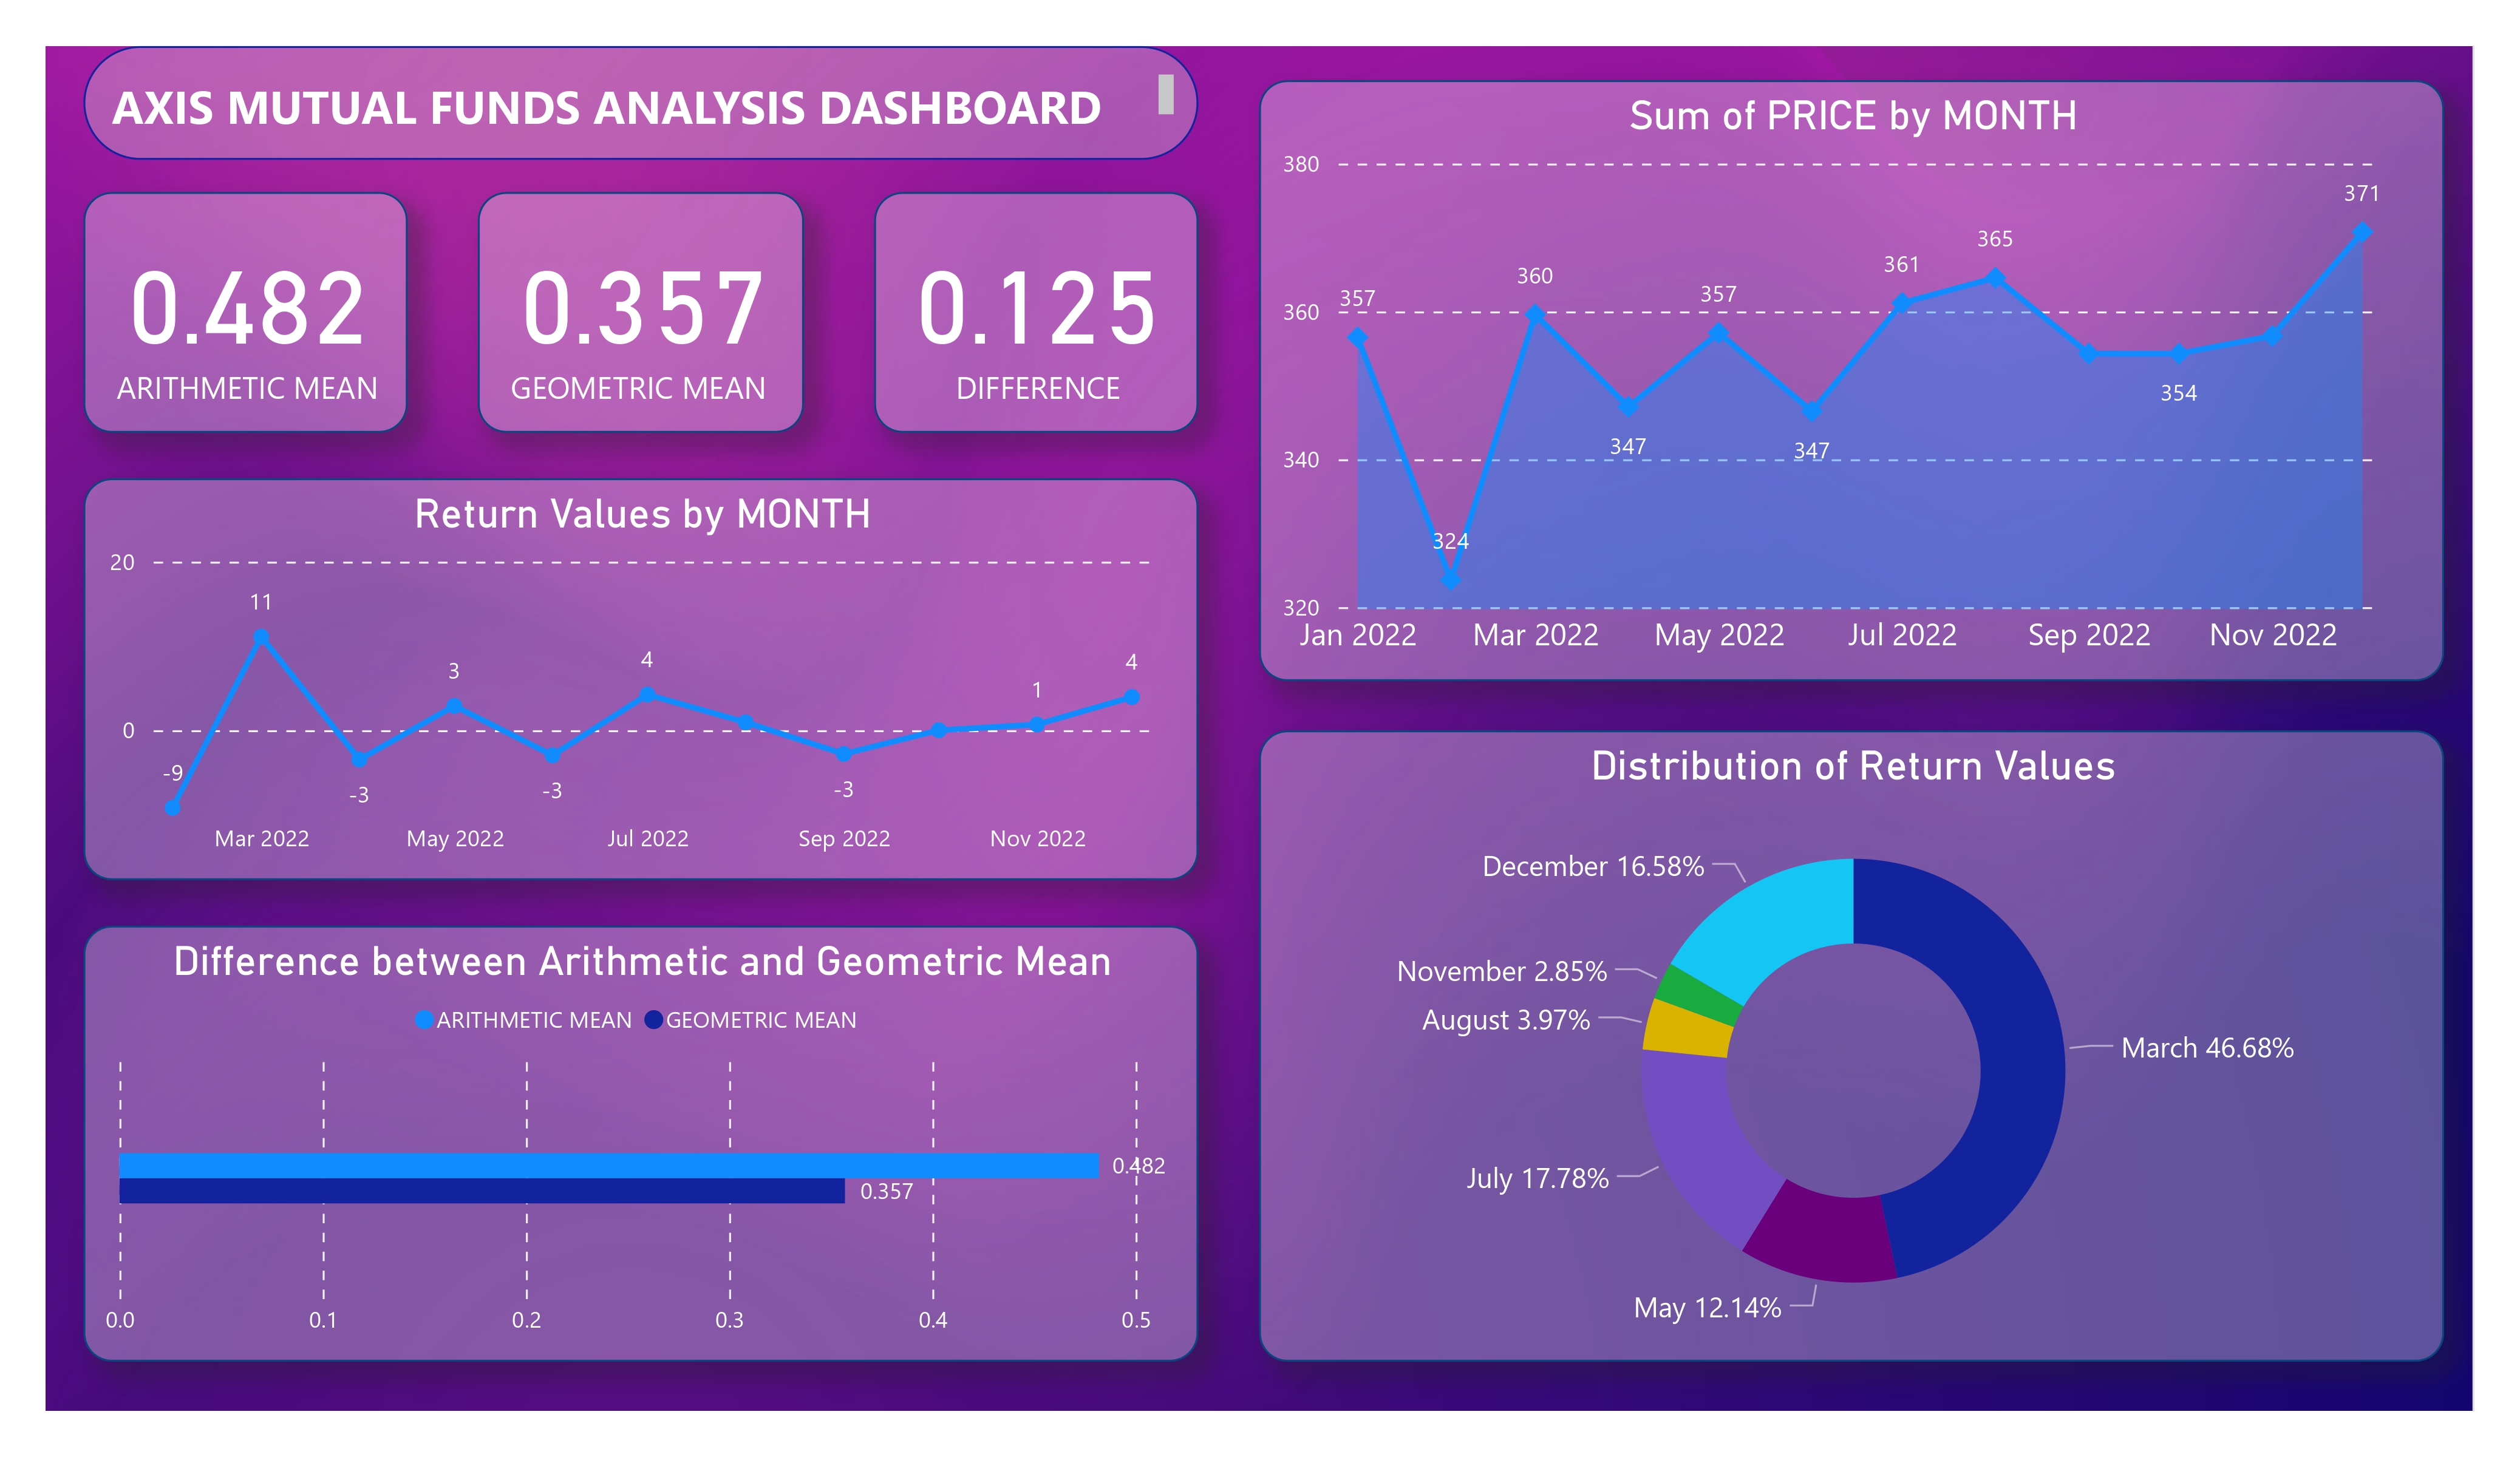

Layout of this report page (visuals, bound fields, positions):
{"tool":"powerbi","page":{"name":"AXIS","canvas":[1280,720],"ordinal":0},"visuals":[{"type":"textbox","box":[19.5,0,589,60.1],"z":0},{"type":"lineChart","title":"Return Values by MONTH","fields":{"Category":["sheet1.MONTH"],"Y":["Sum(sheet1.AXIS)"]},"box":[19.5,228.4,589,211.8],"z":1000},{"type":"areaChart","fields":{"Category":["AXIS.MONTH"],"Y":["Sum(AXIS.PRICE)"]},"box":[640,18,625,317],"z":2000},{"type":"donutChart","title":"Distribution of Return Values","fields":{"Y":["Sum(AXIS.RETURN)"],"Category":["AXIS.MONTH.Variation.Date Hierarchy.Month","AXIS.MONTH.Variation.Date Hierarchy.Day"]},"box":[640,360.6,625,333.5],"z":3000},{"type":"clusteredBarChart","title":"Difference between Arithmetic and Geometric Mean","fields":{"Y":["Sum(axis (2).ARITHMETIC MEAN)","Sum(axis (2).GEOMETRIC MEAN )"]},"box":[19.5,464.3,589,229.9],"z":4000},{"type":"card","fields":{"Values":["Sum(axis (2).ARITHMETIC MEAN)"]},"box":[19.5,76.6,171.3,127.7],"z":5000},{"type":"card","fields":{"Values":["Sum(axis (2).GEOMETRIC MEAN )"]},"box":[228.4,76.6,171.3,127.7],"z":6000},{"type":"card","fields":{"Values":["Sum(axis (2).DIFFERENCE)"]},"box":[437.2,76.6,171.3,127.7],"z":7000}]}

Visuals, with their boxes in screenshot pixels (x1, y1, x2, y2):
textbox: (83, 46, 1200, 160)
"Return Values by MONTH" lineChart: (83, 479, 1200, 881)
areaChart - AXIS.MONTH x Sum(AXIS.PRICE): (1260, 80, 2446, 681)
"Distribution of Return Values" donutChart: (1260, 730, 2446, 1362)
"Difference between Arithmetic and Geometric Mean" clusteredBarChart: (83, 926, 1200, 1362)
card - Sum(axis (2).ARITHMETIC MEAN): (83, 191, 407, 433)
card - Sum(axis (2).GEOMETRIC MEAN ): (479, 191, 804, 433)
card - Sum(axis (2).DIFFERENCE): (875, 191, 1200, 433)
